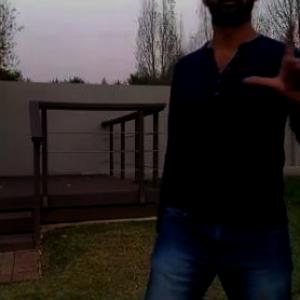land_hand: (230, 9, 299, 118)
